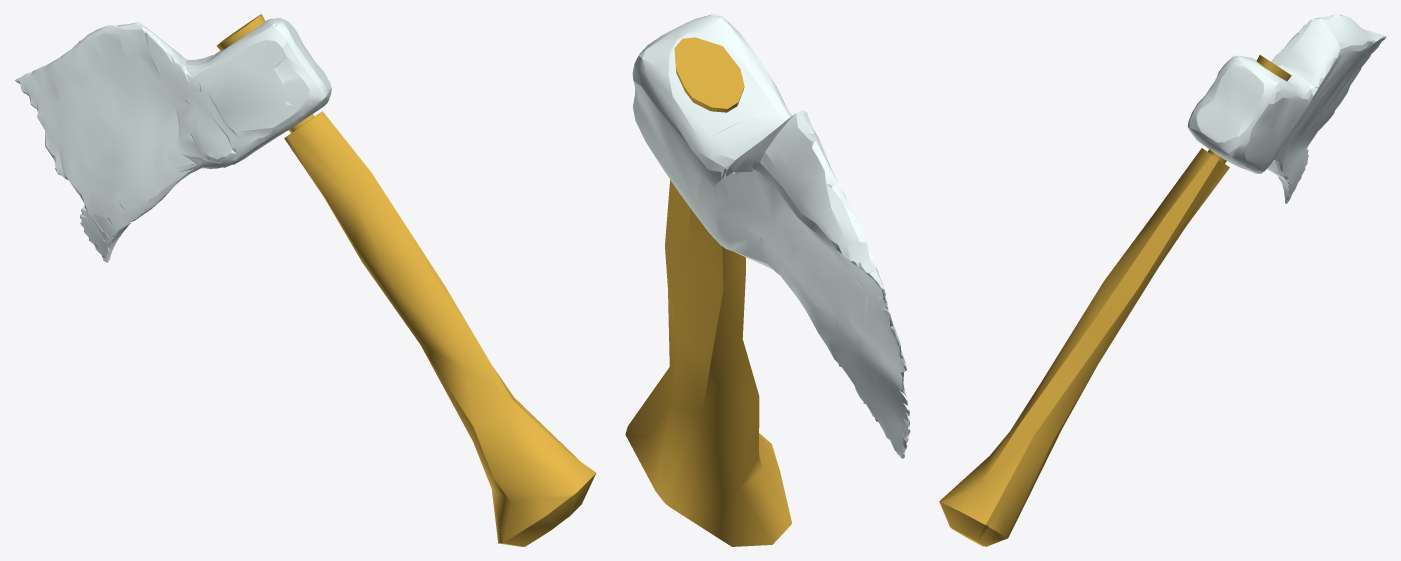
Rendered from axe-iron-2.glb.
The picture shows the model from 3 angles, left to right: view 1: azimuth 30°, elevation 25°; view 2: azimuth 150°, elevation 25°; view 3: azimuth 270°, elevation 25°; orthographic projection. The views are drawn at different scales.
Parts seen in each view (by area): view 1: iron-axe-head, iron-axe; view 2: iron-axe-head, iron-axe; view 3: iron-axe, iron-axe-head.
Boxes of the visible parts, <box> form: iron-axe-head: <box>15,18,331,262</box>; iron-axe: <box>217,14,596,546</box>; iron-axe-head: <box>632,14,910,458</box>; iron-axe: <box>625,37,791,546</box>; iron-axe: <box>939,55,1291,546</box>; iron-axe-head: <box>1187,14,1386,203</box>.
Bounding box in the file's own units: 0.7357 × 0.8648 × 0.8066.
